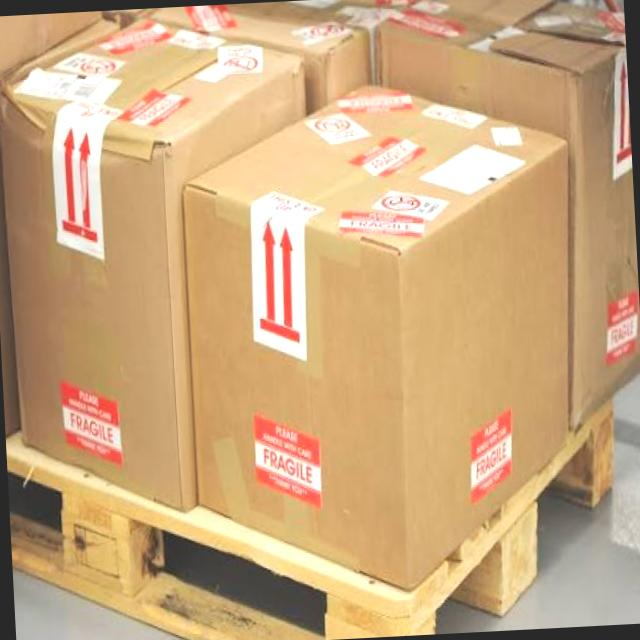fragile_label: (250, 413, 333, 512), (61, 377, 128, 462), (466, 424, 522, 494)
this_side_up_label: (254, 206, 309, 352), (53, 111, 105, 257), (610, 59, 632, 172)
